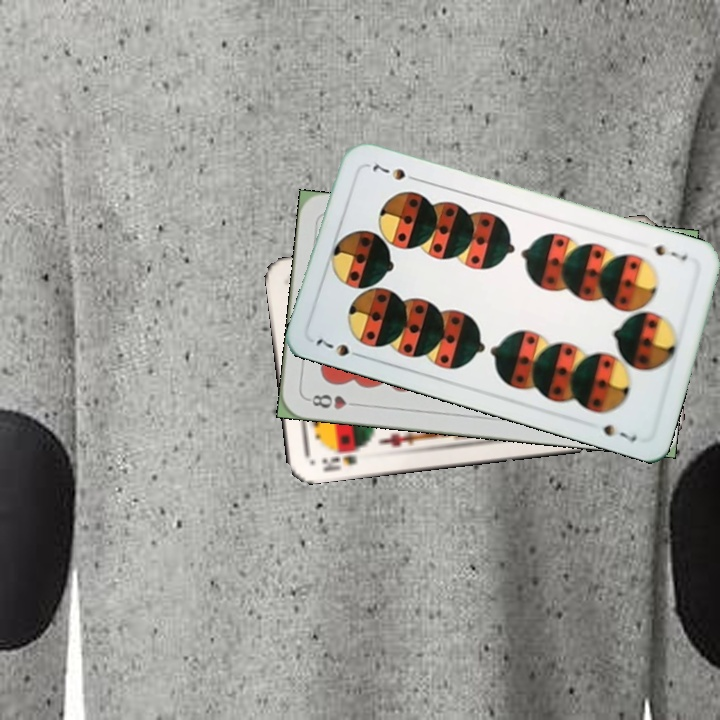H8: (303, 390, 363, 412)
S7: (311, 334, 367, 361), (648, 241, 690, 263)
SK: (317, 451, 360, 474)
